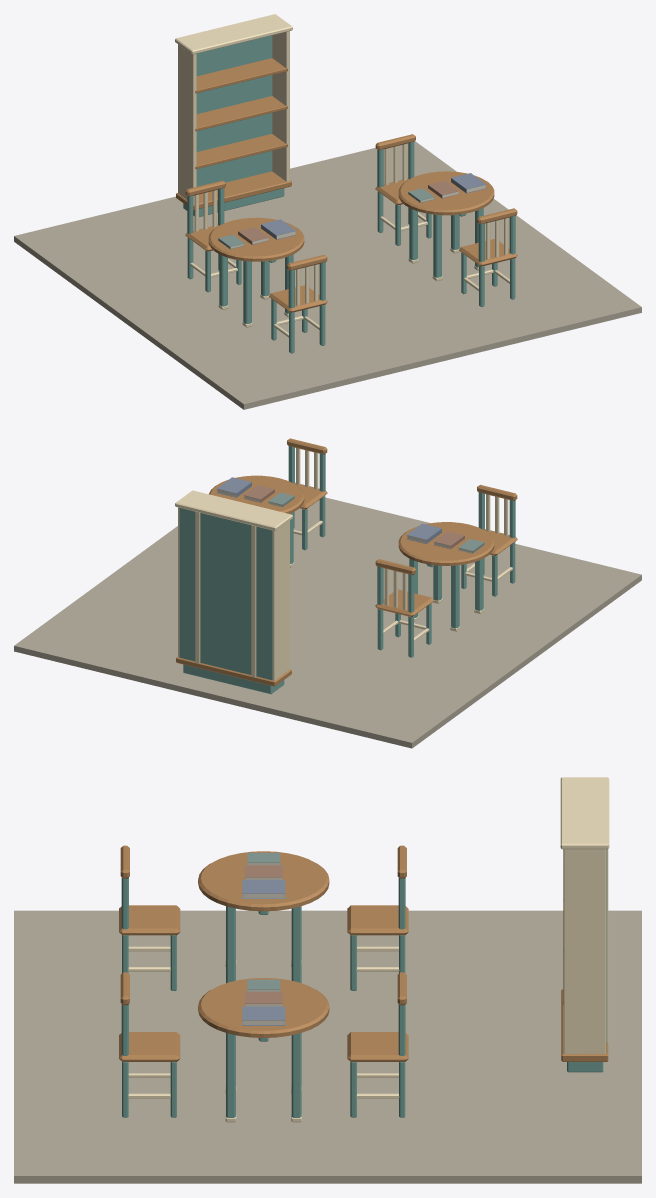
The picture shows the model from 3 angles, top to bottom: view 1: azimuth 30°, elevation 25°; view 2: azimuth 150°, elevation 25°; view 3: azimuth 270°, elevation 25°; orthographic projection. The views are drawn at different scales.
Parts seen in each view (by area): view 1: SCENE_ONLY__Continuous_Reading_Floor, north_collection_shelf__Inset_backboard, east_reading_table__kitchen-round-table-01, west_reading_table__kitchen-round-table-01, west_south_chair__kitchen-dining-chair-01, east_south_chair__kitchen-dining-chair-01, north_collection_shelf__Side_wall_L, west_north_chair__kitchen-dining-chair-01, east_north_chair__kitchen-dining-chair-01, north_collection_shelf__Crown_cap, north_collection_shelf__Side_wall_R, north_collection_shelf__Fixed_book_shelf_03 (+4 smaller); view 2: SCENE_ONLY__Continuous_Reading_Floor, north_collection_shelf__Inset_backboard, west_reading_table__kitchen-round-table-01, west_north_chair__kitchen-dining-chair-01, north_collection_shelf__Side_wall_L, west_south_chair__kitchen-dining-chair-01, east_south_chair__kitchen-dining-chair-01, north_collection_shelf__Crown_cap, east_reading_table__kitchen-round-table-01, north_collection_shelf__Rear_batten_L, north_collection_shelf__Rear_batten_R, north_collection_shelf__Floor_plinth (+1 smaller); view 3: SCENE_ONLY__Continuous_Reading_Floor, north_collection_shelf__Side_wall_R, east_reading_table__kitchen-round-table-01, west_reading_table__kitchen-round-table-01, north_collection_shelf__Crown_cap, east_north_chair__kitchen-dining-chair-01, east_south_chair__kitchen-dining-chair-01, west_north_chair__kitchen-dining-chair-01, west_south_chair__kitchen-dining-chair-01, east_closed_book_kit__Reference continuous wrap cover and sp, west_closed_book_kit__Reference continuous wrap cover and sp, north_collection_shelf__Lower_book_deck (+1 smaller).
Part boxes in pixels (x1,y1,x2,y2): SCENE_ONLY__Continuous_Reading_Floor: (14, 141, 641, 409); north_collection_shelf__Inset_backboard: (196, 35, 272, 186); east_reading_table__kitchen-round-table-01: (398, 171, 494, 281); west_reading_table__kitchen-round-table-01: (208, 217, 304, 327); west_south_chair__kitchen-dining-chair-01: (269, 255, 327, 353); east_south_chair__kitchen-dining-chair-01: (459, 208, 517, 307); north_collection_shelf__Side_wall_L: (178, 44, 196, 204); west_north_chair__kitchen-dining-chair-01: (185, 180, 241, 292); east_north_chair__kitchen-dining-chair-01: (375, 134, 431, 245); north_collection_shelf__Crown_cap: (175, 14, 292, 54); north_collection_shelf__Side_wall_R: (272, 31, 289, 181); north_collection_shelf__Fixed_book_shelf_03: (195, 58, 287, 93); SCENE_ONLY__Continuous_Reading_Floor: (14, 497, 641, 748); north_collection_shelf__Inset_backboard: (179, 508, 272, 680); west_reading_table__kitchen-round-table-01: (398, 522, 494, 631); west_north_chair__kitchen-dining-chair-01: (375, 559, 433, 657); north_collection_shelf__Side_wall_L: (272, 520, 289, 680); west_south_chair__kitchen-dining-chair-01: (461, 484, 517, 596); east_south_chair__kitchen-dining-chair-01: (287, 438, 327, 550); north_collection_shelf__Crown_cap: (175, 490, 292, 530); east_reading_table__kitchen-round-table-01: (209, 475, 304, 567); north_collection_shelf__Rear_batten_L: (251, 525, 256, 677); north_collection_shelf__Rear_batten_R: (195, 511, 200, 663); north_collection_shelf__Floor_plinth: (183, 664, 284, 694); SCENE_ONLY__Continuous_Reading_Floor: (14, 910, 641, 1183); north_collection_shelf__Side_wall_R: (563, 849, 605, 1053); east_reading_table__kitchen-round-table-01: (198, 978, 329, 1122); west_reading_table__kitchen-round-table-01: (198, 851, 329, 983); north_collection_shelf__Crown_cap: (560, 777, 609, 849); east_north_chair__kitchen-dining-chair-01: (347, 972, 408, 1117); east_south_chair__kitchen-dining-chair-01: (119, 972, 180, 1117); west_north_chair__kitchen-dining-chair-01: (347, 845, 408, 990); west_south_chair__kitchen-dining-chair-01: (119, 845, 180, 990); east_closed_book_kit__Reference continuous wrap cover and sp: (242, 1006, 285, 1025); west_closed_book_kit__Reference continuous wrap cover and sp: (242, 880, 285, 898); north_collection_shelf__Lower_book_deck: (561, 989, 608, 1061).
Size of the model in its own units: 4.4 by 1.86 by 4.4.
